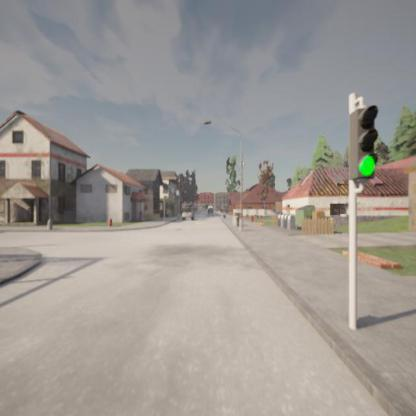traffic_light_green: (356, 108, 380, 180)
